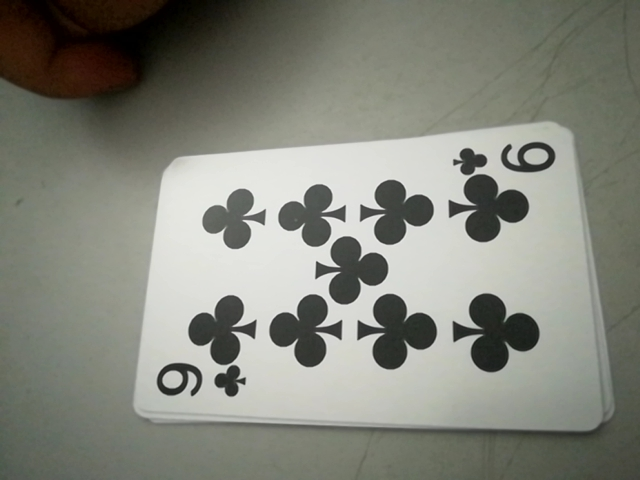mh 9: (148, 357, 249, 410), (450, 135, 560, 180)
